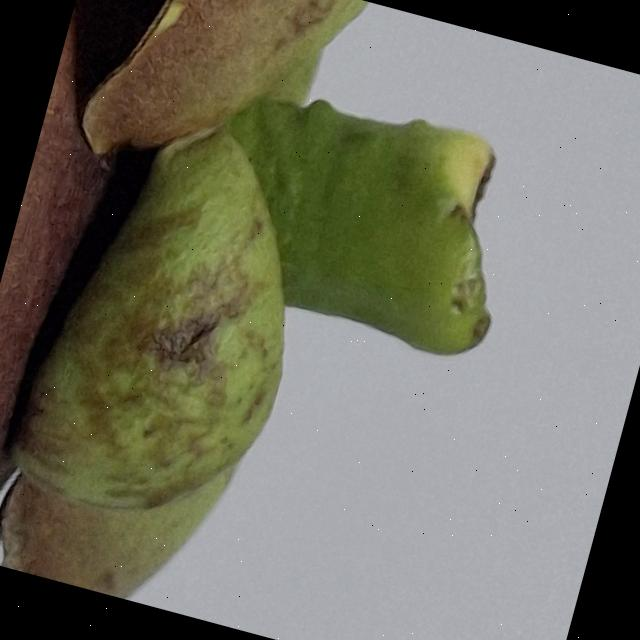mangosteen: (0, 0, 586, 640)
